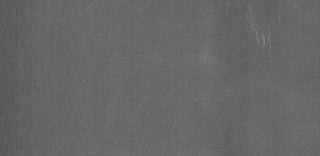silk spot: (224, 1, 296, 57)
